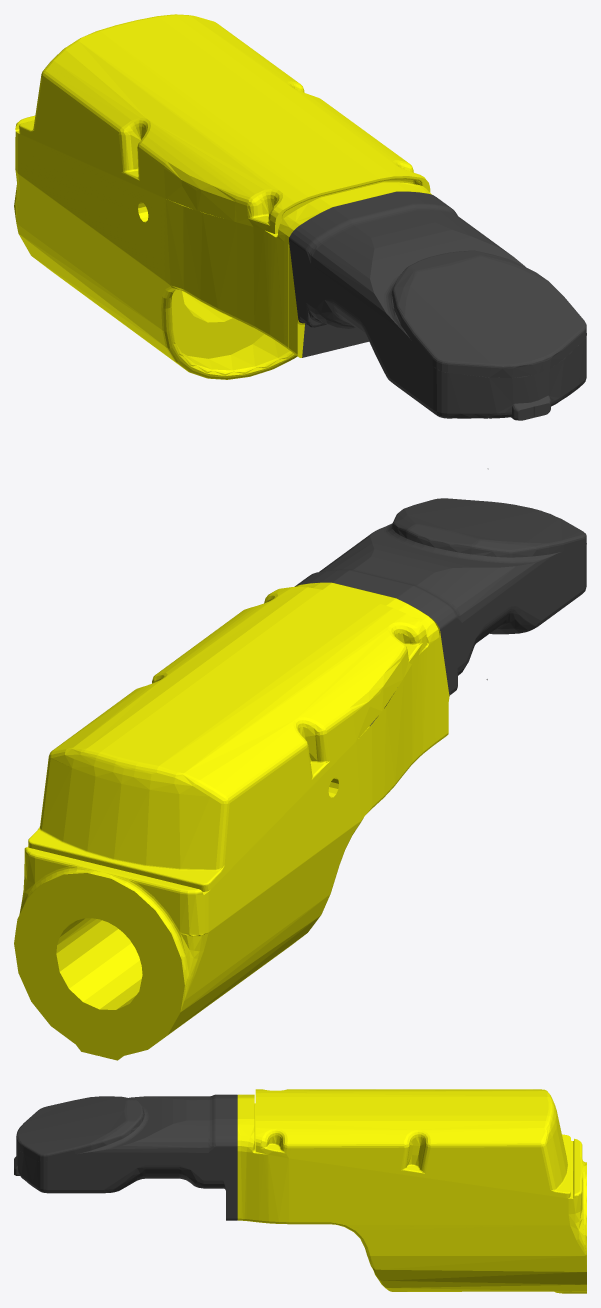
The picture shows the model from 3 angles, top to bottom: view 1: azimuth 30°, elevation 25°; view 2: azimuth 150°, elevation 25°; view 3: azimuth 270°, elevation 25°; orthographic projection. The views are drawn at different scales.
Visible parts, largest first — view 1: node; view 2: node; view 3: node.
Part boxes in pixels (x1,y1,x2,y2): node: (14, 14, 586, 469); node: (14, 498, 586, 1060); node: (14, 1089, 586, 1293).
Size of the model in its own units: 120 by 174 by 498.
